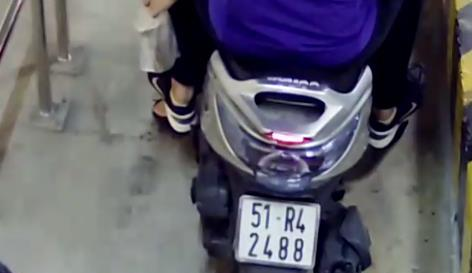lisence: (234, 194, 319, 271)
